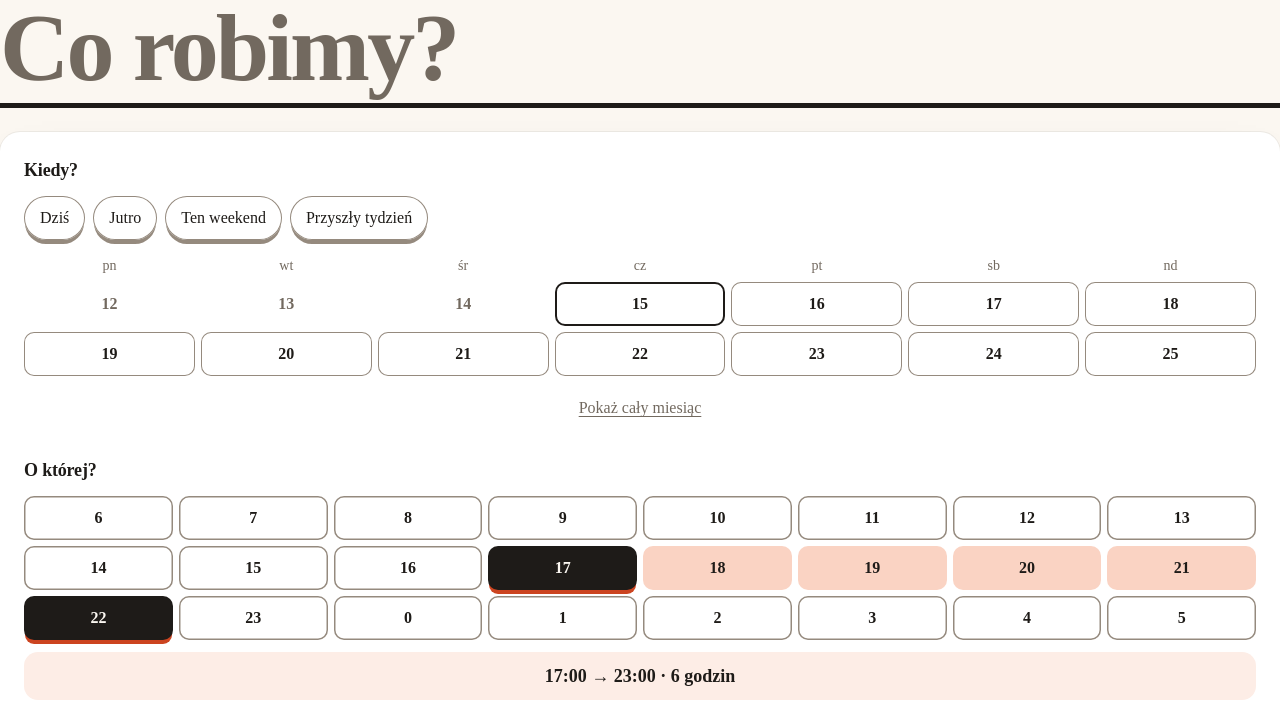
Test: Kiedy? › an 11th date changes nothing and says Maksymalnie 10 dni
This screenshot has width=1280, height=720.
Click the button "Przyszły tydzień" at (359, 218), box x1=290 y1=196 x2=428 y2=240
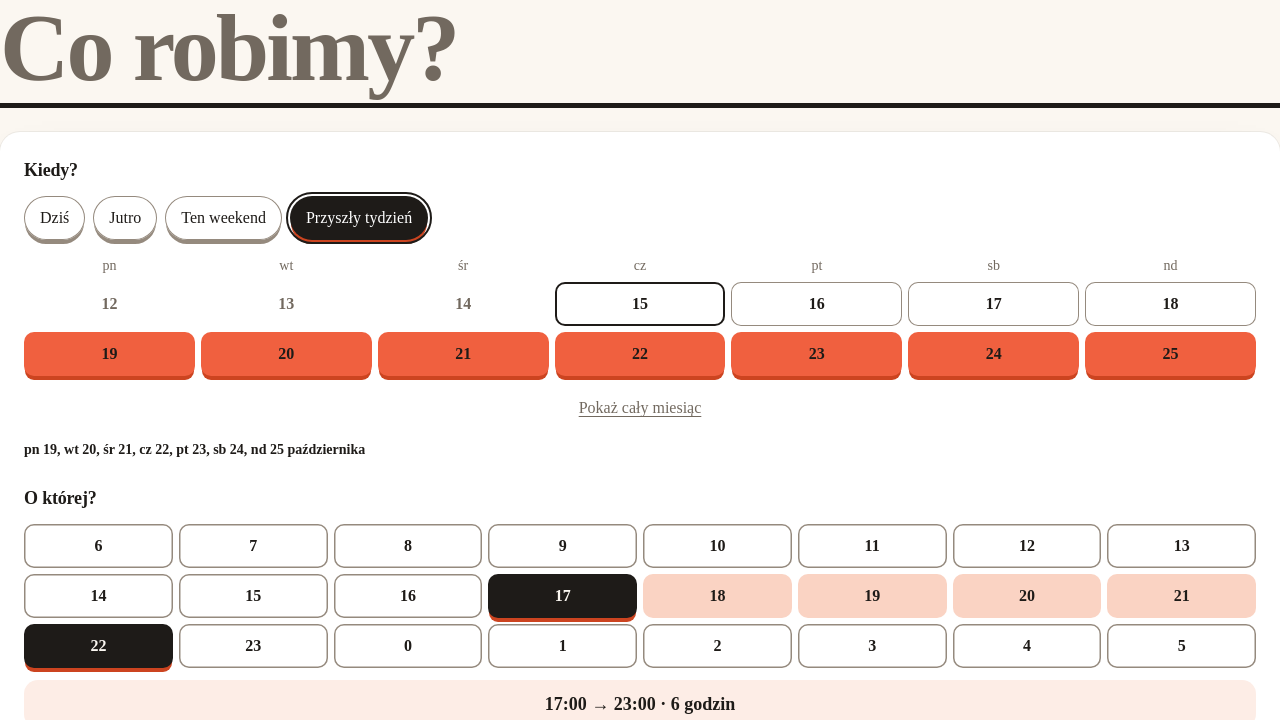
Click the button "Ten weekend" at (224, 218), box x1=165 y1=196 x2=282 y2=240
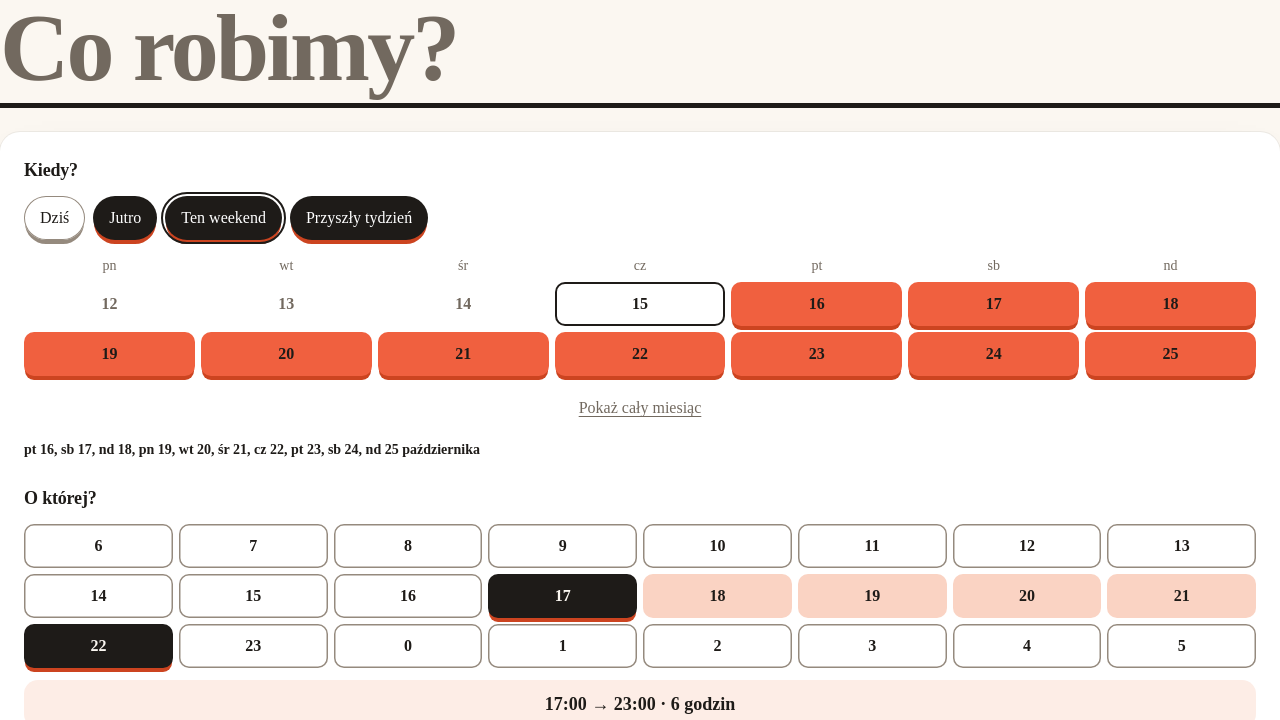
Click the button named "czwartek, 15 października" at (640, 304), box x1=555 y1=282 x2=726 y2=326
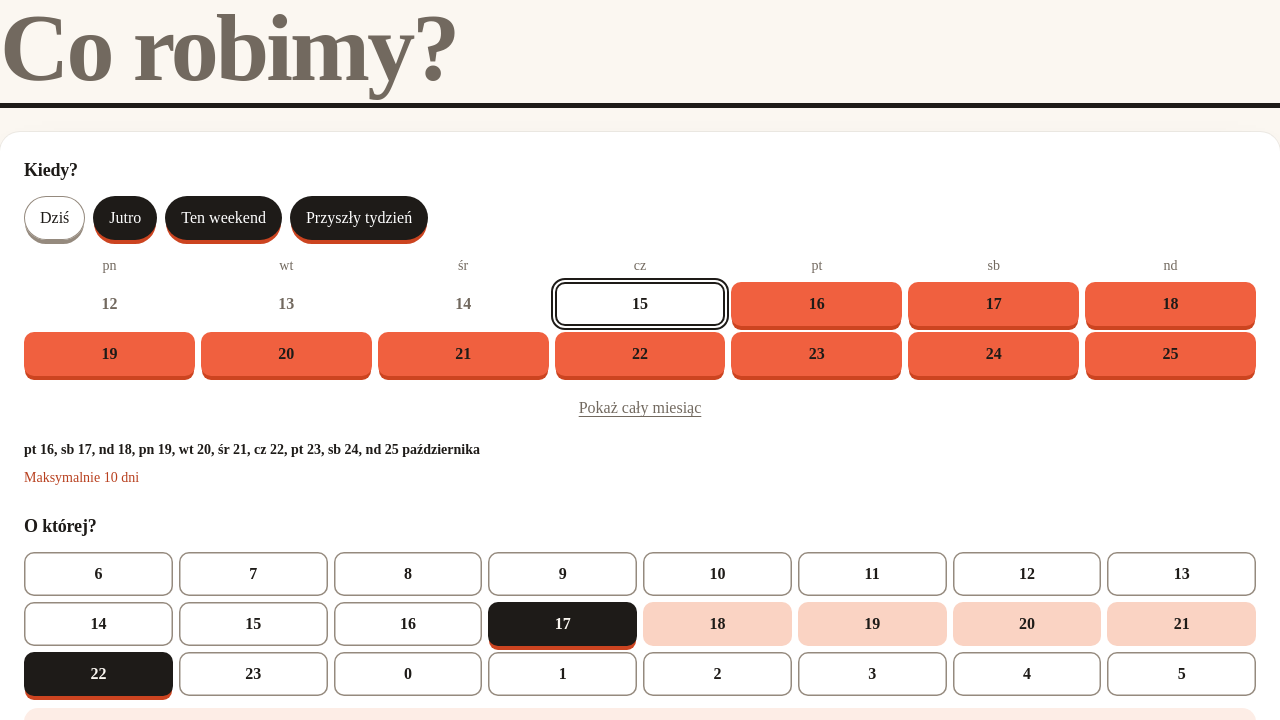
Now the text "Maksymalnie 10 dni" is shown, box x1=24 y1=470 x2=139 y2=485
